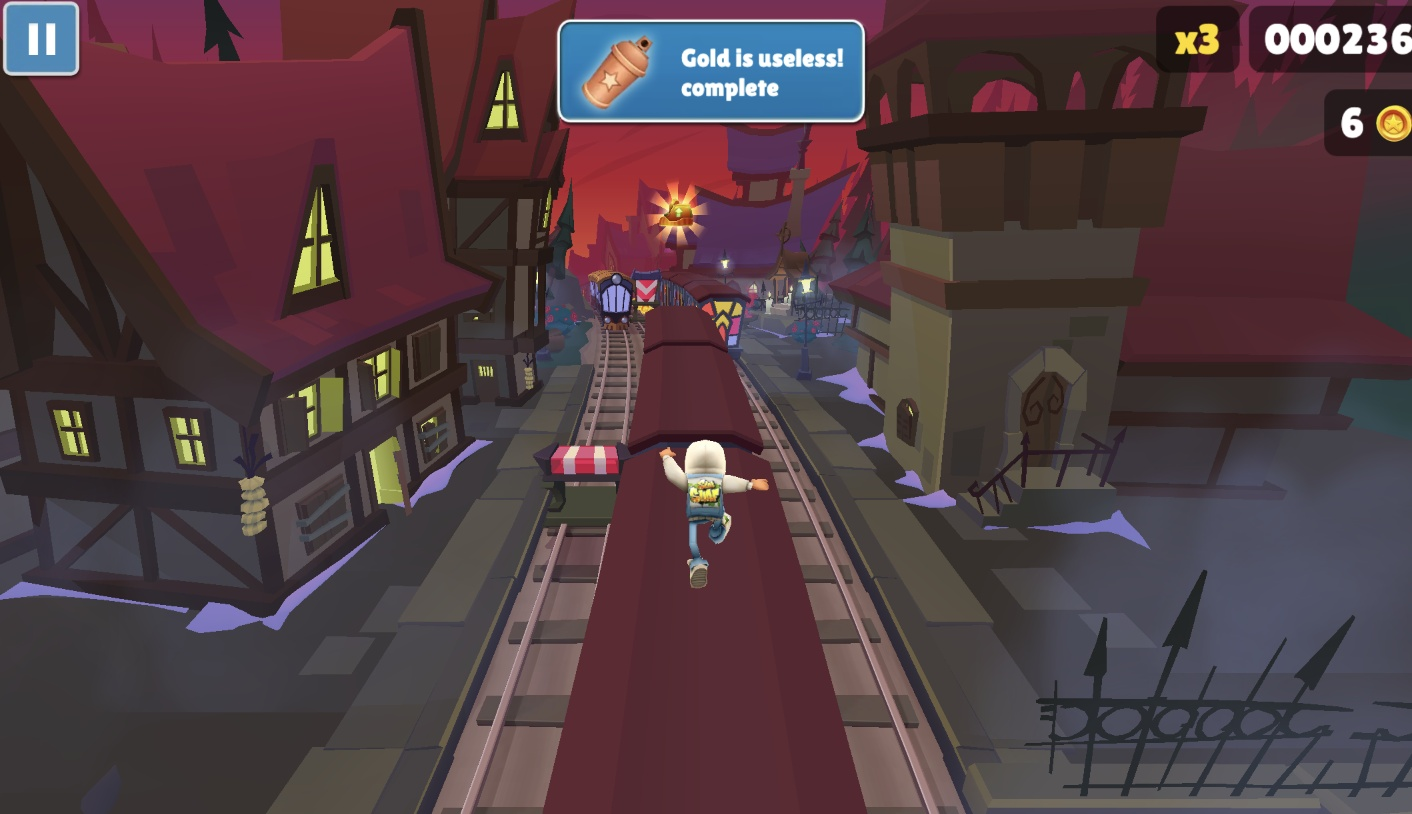ground_barrier: (531, 448, 623, 539)
overhead_barrier: (630, 270, 661, 320)
train: (556, 309, 851, 814), (665, 274, 758, 365), (586, 270, 635, 331)
